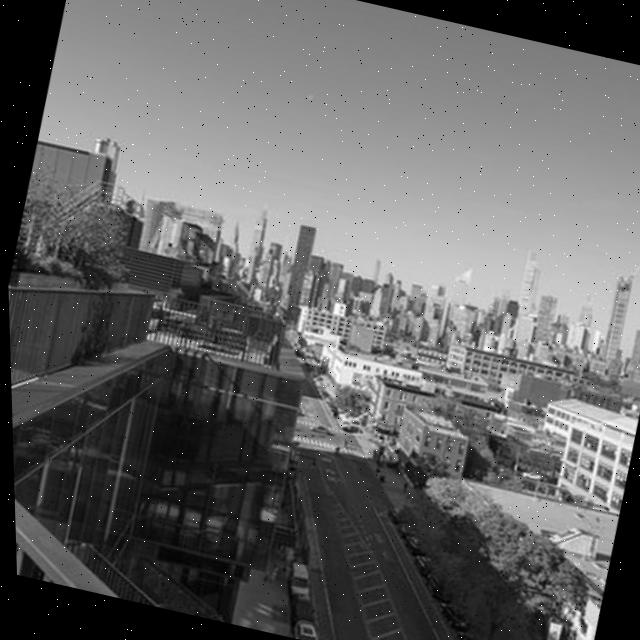building: (4, 128, 349, 628), (519, 382, 640, 522), (439, 337, 595, 416), (376, 396, 478, 486), (331, 258, 451, 332), (311, 337, 426, 411), (294, 294, 405, 358), (503, 246, 555, 348), (362, 371, 439, 439), (228, 200, 283, 284), (598, 276, 640, 366), (277, 222, 318, 313), (563, 298, 606, 364)
